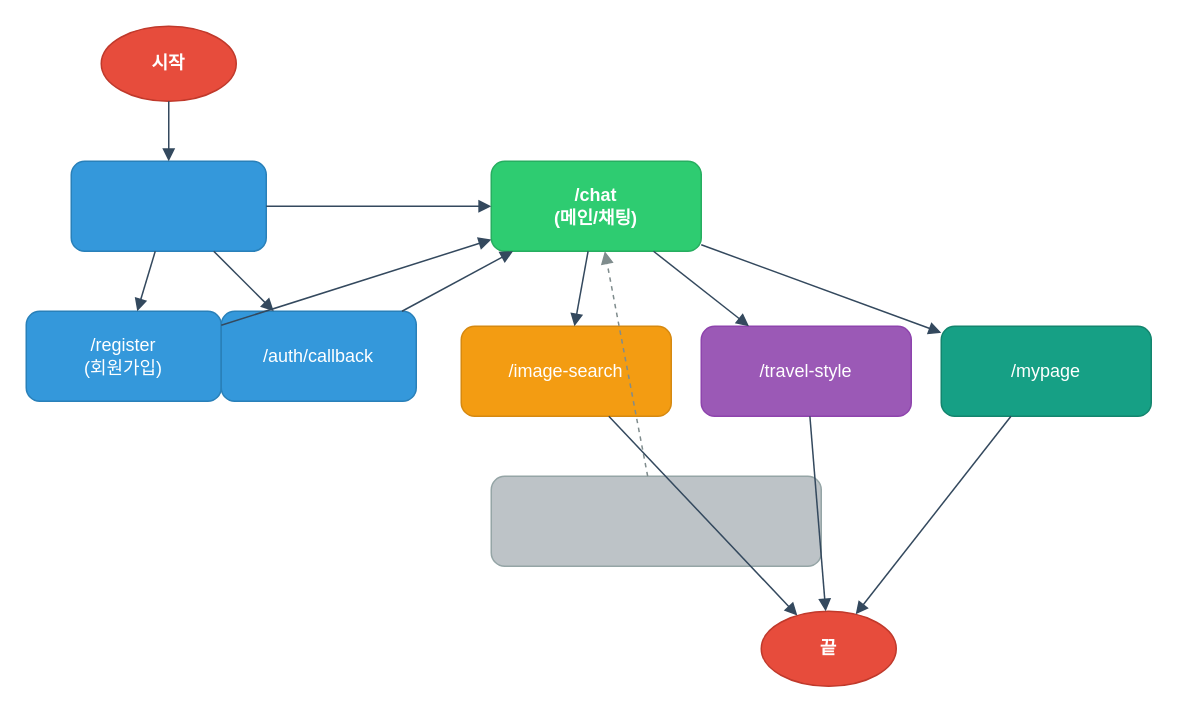
Some shapes in this 1178 by 713 pixel diagram are drawn without their labels. Each missing label, with the centre of its shape:
"/login (로그인)" belongs at point 168,205.
"기타 경로 → /chat 리다이렉트" belongs at point 655,520.
